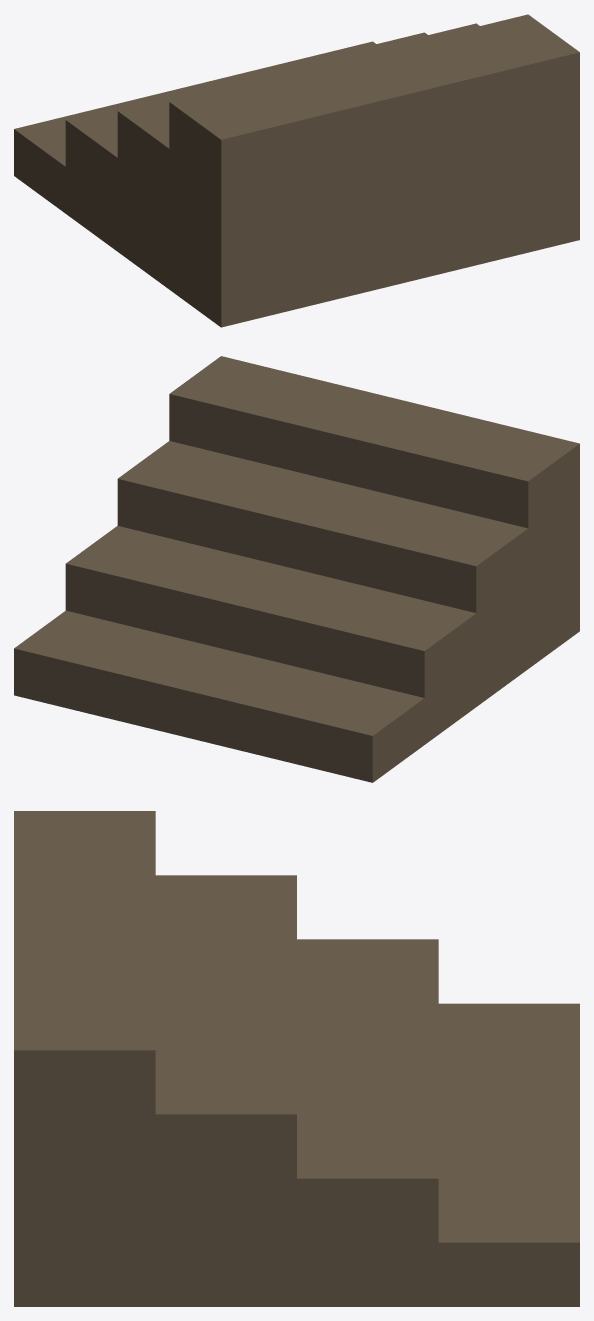
The model's file is terrain-soil-stairs.lod0.glb.
3 renders of one model, top to bottom at view 1: azimuth 30°, elevation 25°; view 2: azimuth 150°, elevation 25°; view 3: azimuth 270°, elevation 25°, orthographic. The views are drawn at different scales.
Visible parts, largest first — view 1: terrain-soil-stairs__body; view 2: terrain-soil-stairs__body; view 3: terrain-soil-stairs__body.
Part boxes in pixels (x1,y1,x2,y2): terrain-soil-stairs__body: (14,14,579,327); terrain-soil-stairs__body: (14,356,579,782); terrain-soil-stairs__body: (14,811,579,1306).
Bounding box in the file's own units: 2 × 1.03 × 2.
